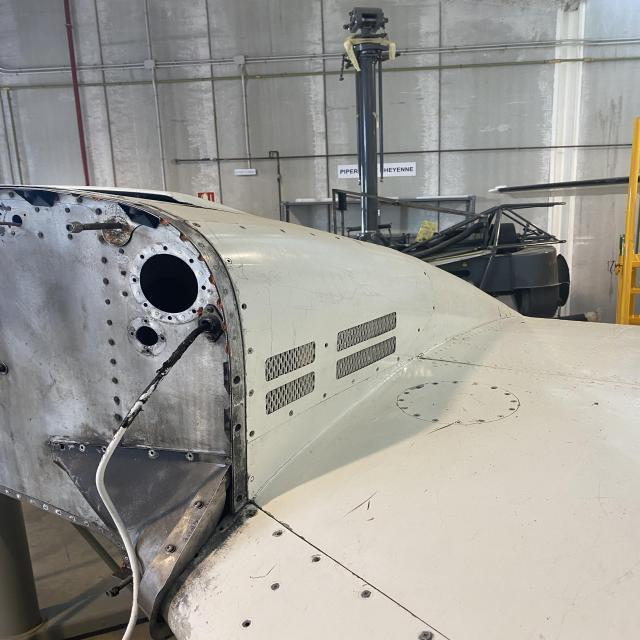Missing_Fastener: (238, 616, 254, 630), (272, 528, 286, 538), (310, 554, 324, 564), (240, 300, 248, 312), (322, 342, 330, 349), (490, 386, 500, 390), (432, 306, 436, 310), (418, 328, 420, 332)
